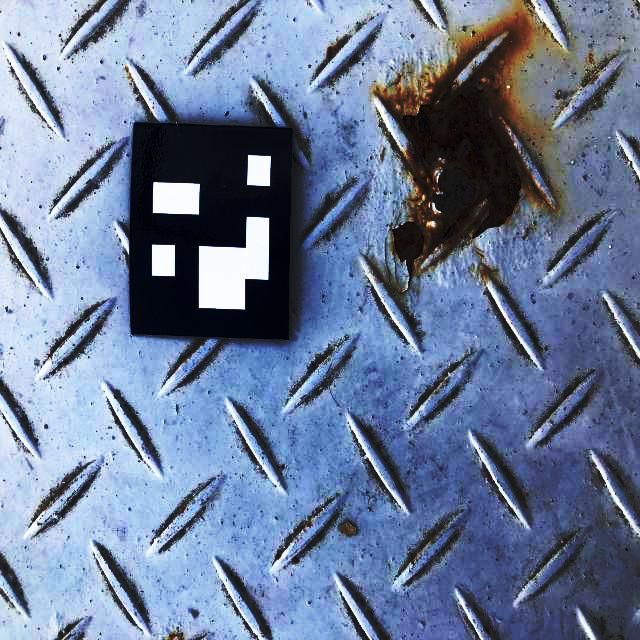Corrosion: (392, 48, 554, 279)
